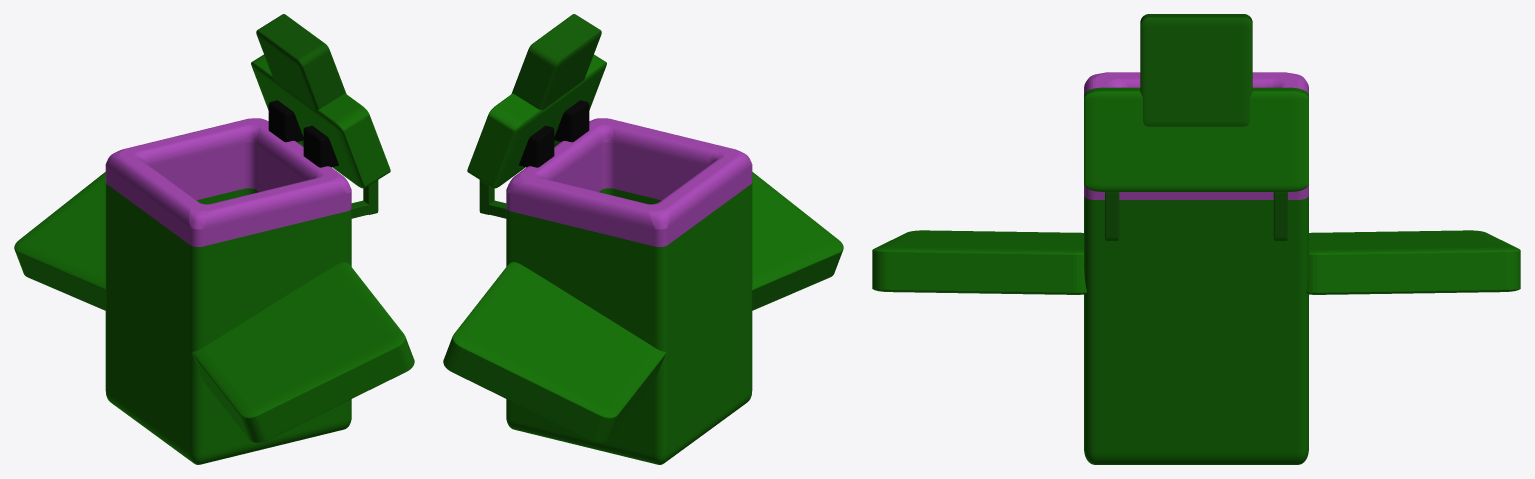
File: Gulper.glb
3 renders of one model, left to right at view 1: azimuth 30°, elevation 25°; view 2: azimuth 150°, elevation 25°; view 3: azimuth 270°, elevation 25°, orthographic. The views are drawn at different scales.
Visible parts, largest first — view 1: Cube, Cube.014, Cube.013, Cube.012, Cube.019, Cube.017, Cube.018; view 2: Cube, Cube.013, Cube.014, Cube.012, Cube.019, Cube.018, Cube.017; view 3: Cube, Cube.012, Cube.013, Cube.014, Cube.019, Cube.016, Cube.021.
Part boxes in pixels (box(x1,y1,x2,y2)): Cube: box(105, 118, 351, 464); Cube.014: box(191, 262, 414, 442); Cube.013: box(14, 172, 106, 310); Cube.012: box(251, 54, 390, 188); Cube.019: box(256, 14, 346, 110); Cube.017: box(268, 100, 303, 142); Cube.018: box(303, 125, 338, 167); Cube: box(506, 118, 752, 464); Cube.013: box(443, 262, 666, 442); Cube.014: box(751, 172, 843, 310); Cube.012: box(467, 54, 606, 188); Cube.019: box(511, 14, 601, 110); Cube.018: box(554, 100, 589, 142); Cube.017: box(519, 125, 554, 167); Cube: box(1084, 72, 1308, 464); Cube.012: box(1084, 87, 1308, 191); Cube.013: box(1306, 230, 1520, 294); Cube.014: box(872, 230, 1086, 294); Cube.019: box(1140, 14, 1252, 126); Cube.016: box(1105, 192, 1119, 240); Cube.021: box(1273, 192, 1287, 240).
Bounding box in the file's own units: 0.5447 × 0.8806 × 1.15.
